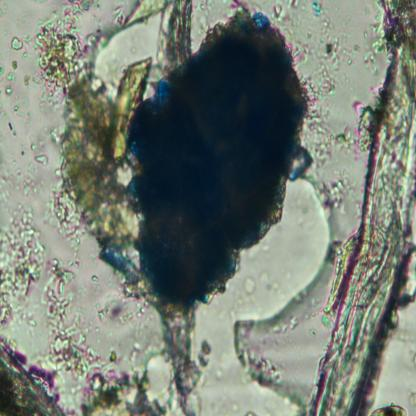Air bubble: (188, 173, 333, 412), (90, 4, 167, 94)
Background material: (46, 256, 167, 414), (51, 60, 148, 255), (0, 201, 46, 331), (160, 309, 203, 414), (36, 49, 101, 109), (304, 34, 350, 108), (306, 112, 352, 166), (320, 167, 357, 216), (351, 96, 380, 154), (360, 14, 384, 76), (113, 0, 163, 27), (15, 162, 40, 197), (13, 96, 33, 136), (0, 58, 19, 97), (0, 156, 14, 200), (371, 401, 411, 416), (312, 0, 332, 30), (273, 0, 301, 17), (197, 339, 212, 370), (30, 134, 48, 152), (34, 152, 50, 167), (22, 73, 32, 88), (0, 101, 7, 121), (7, 121, 16, 136)
Cellulose filter fibre: (309, 1, 416, 416), (0, 334, 67, 414), (160, 1, 196, 80)
Fragment: (104, 6, 304, 306)
